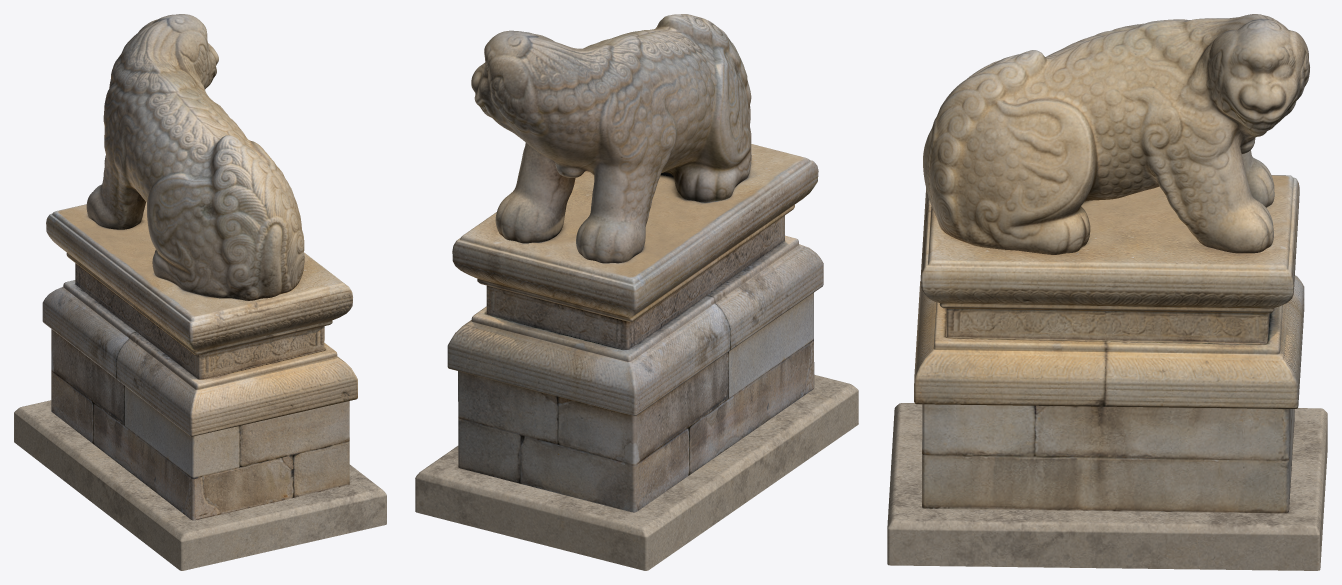
The model's file is haetaeb-modi.glb.
3 views of the same model, side by side, from view 1: azimuth 30°, elevation 25°; view 2: azimuth 150°, elevation 25°; view 3: azimuth 270°, elevation 25° (orthographic). The views are drawn at different scales.
Parts seen in each view (by area): view 1: SM_GHM_HaetaeB; view 2: SM_GHM_HaetaeB; view 3: SM_GHM_HaetaeB.
Part boxes in pixels (x1=…): SM_GHM_HaetaeB: x1=14, y1=14, x2=386, y2=570; SM_GHM_HaetaeB: x1=415, y1=14, x2=858, y2=570; SM_GHM_HaetaeB: x1=887, y1=14, x2=1327, y2=570.
Size of the model in its own units: 1.91 by 3.56 by 2.8.
Materials: 1 (1 with a texture image).
